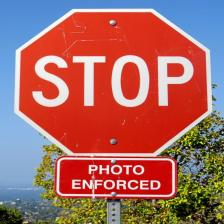Stop-sign: (2, 1, 223, 157)
